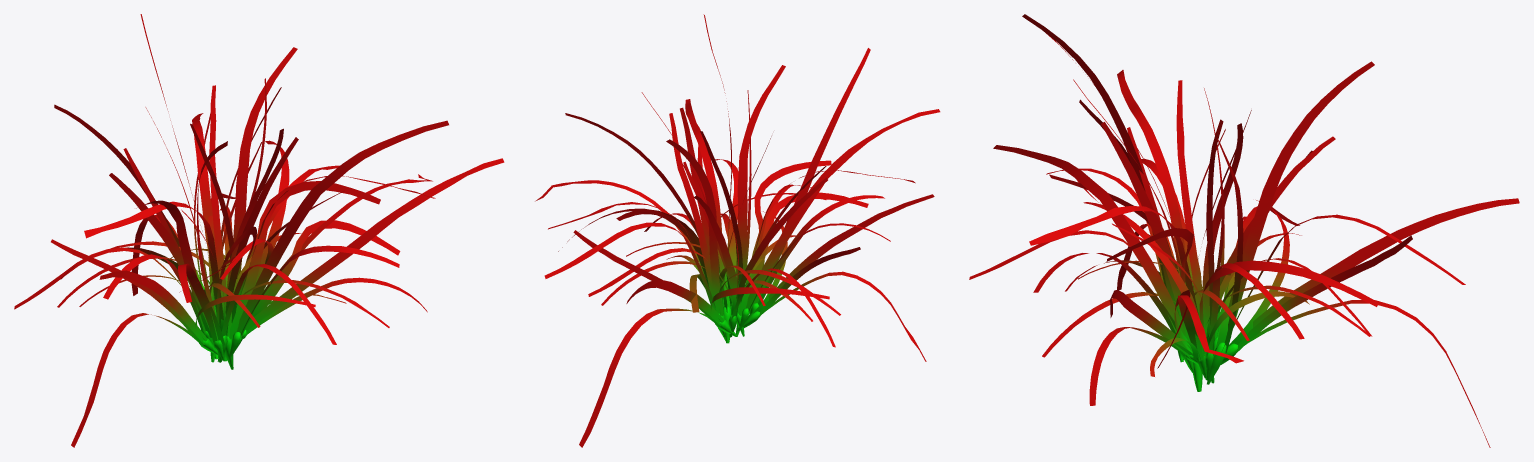
The model's file is QXL_Ribbon_Grass_tbdpec3r_0_LOD0.fbx.
3 renders of one model, left to right at view 1: azimuth 30°, elevation 25°; view 2: azimuth 150°, elevation 25°; view 3: azimuth 270°, elevation 25°, orthographic. The views are drawn at different scales.
Parts seen in each view (by area): view 1: Var1_LOD0; view 2: Var1_LOD0; view 3: Var1_LOD0.
Part boxes in pixels (x1,y1,x2,y2): Var1_LOD0: (14,14,504,447); Var1_LOD0: (535,14,940,447); Var1_LOD0: (969,14,1519,447).
Size of the model in its own units: 70.82 by 54.1 by 72.91.
